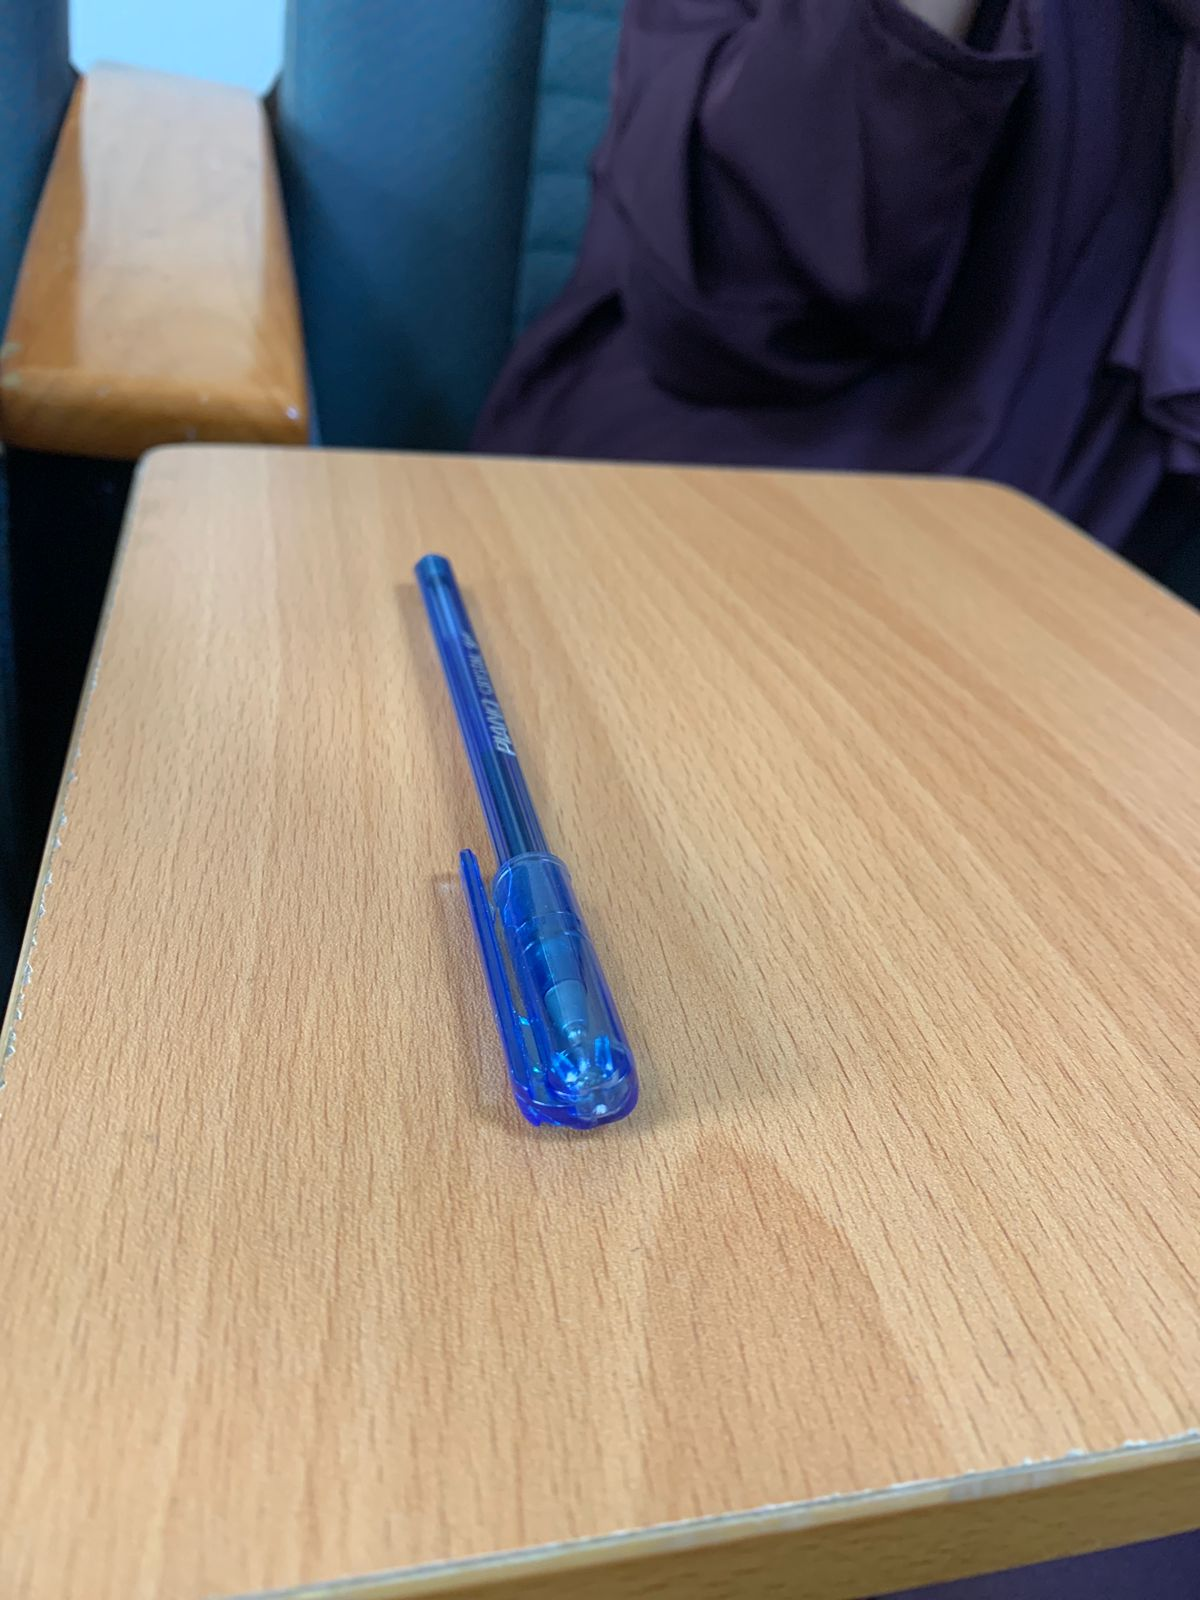pen: (287, 483, 732, 1232)
